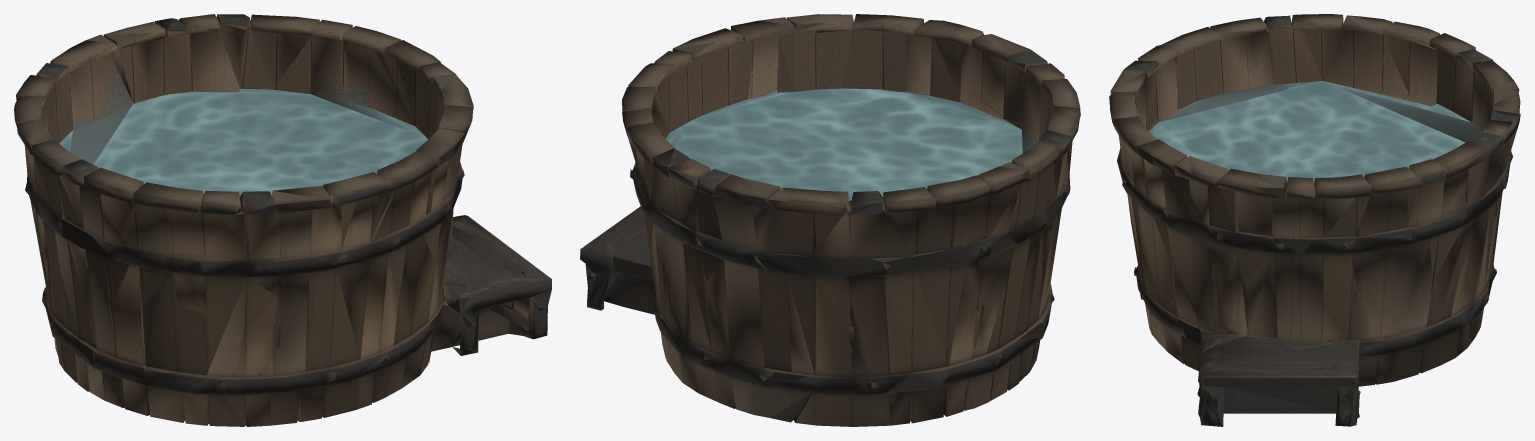
File: small-tub.glb
3 views of the same model, side by side, from view 1: azimuth 30°, elevation 25°; view 2: azimuth 150°, elevation 25°; view 3: azimuth 270°, elevation 25° (orthographic). The views are drawn at different scales.
Size of the model in its own units: 2 by 1.04 by 1.76.
1 material, 1 textured.
